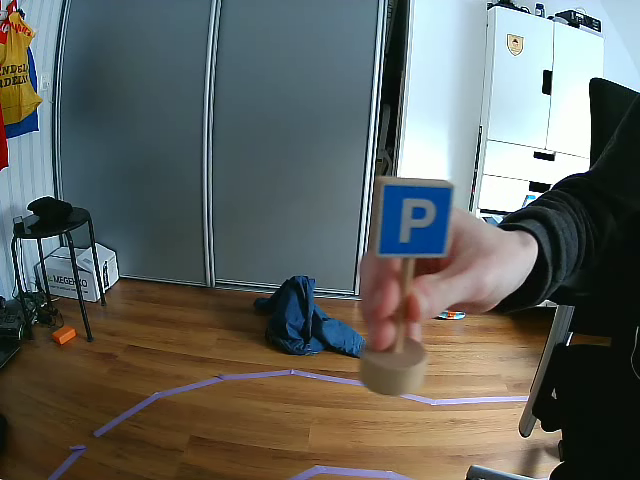parkeerbord: (375, 178, 454, 259)
